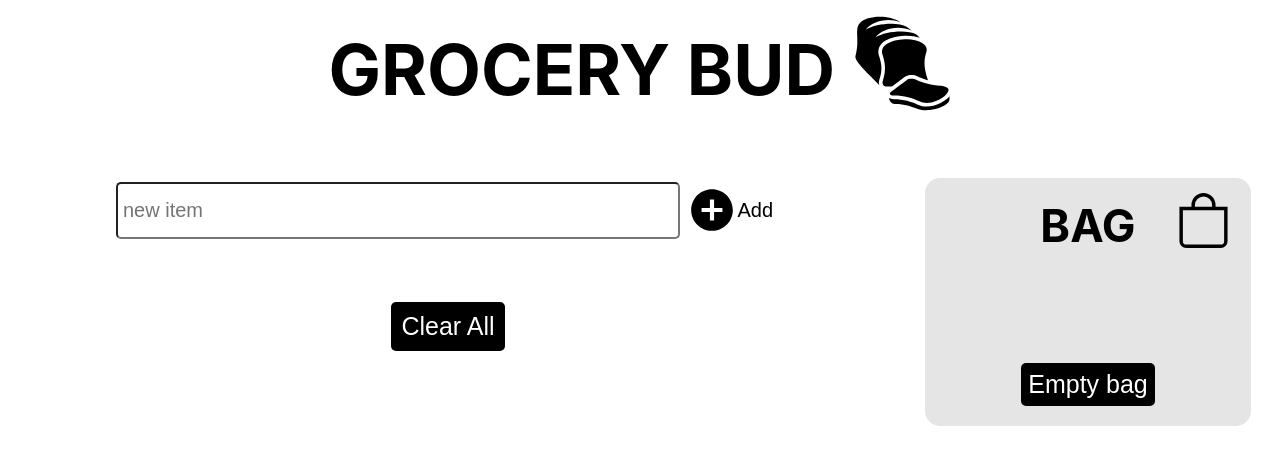
it: when list has only one item: › if edit button is clicked it show an input with the associated item value
Type "1 package of toilet paper" into the field with placeholder "new item" at x=398, y=210, box [116,182,680,238]
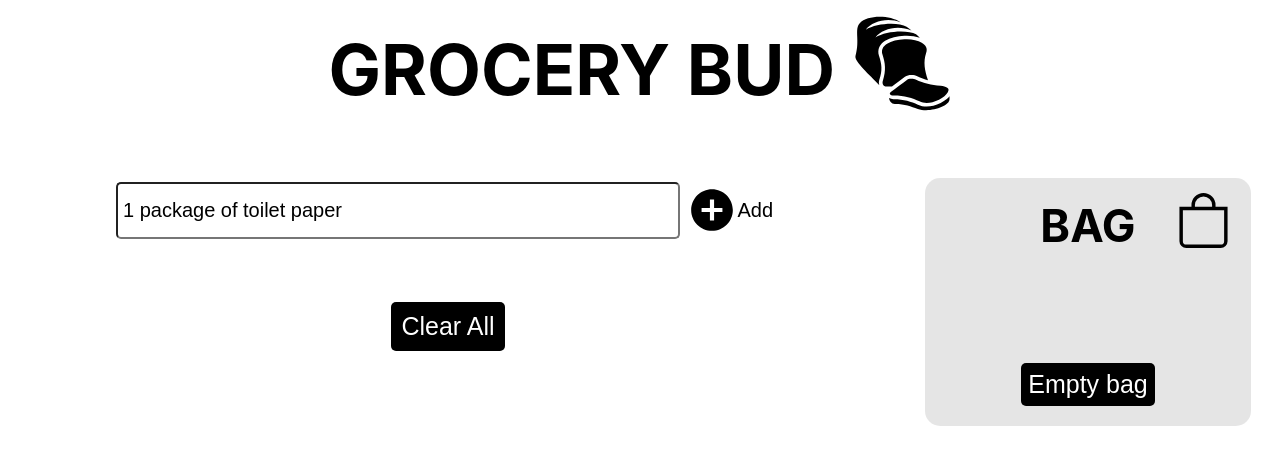
Click the button "Add" at x=730, y=210, box [680,178,780,242]
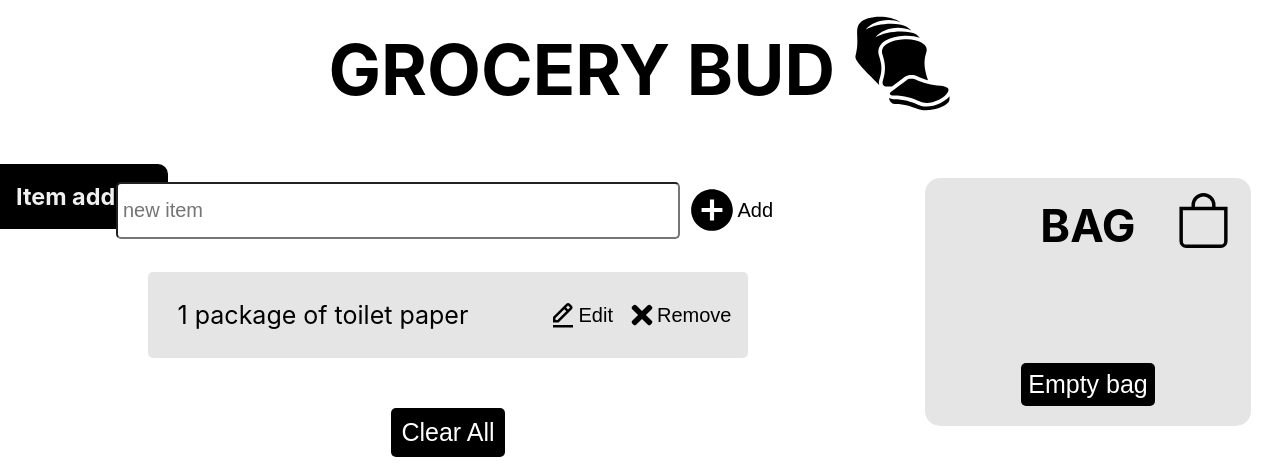
Check: the text "1 package of toilet paper" is shown, box [178,300,468,330]
Check: the field with placeholder "new item" is empty, box [116,182,680,238]
Click the button "Edit" at x=581, y=315, box [542,293,620,337]
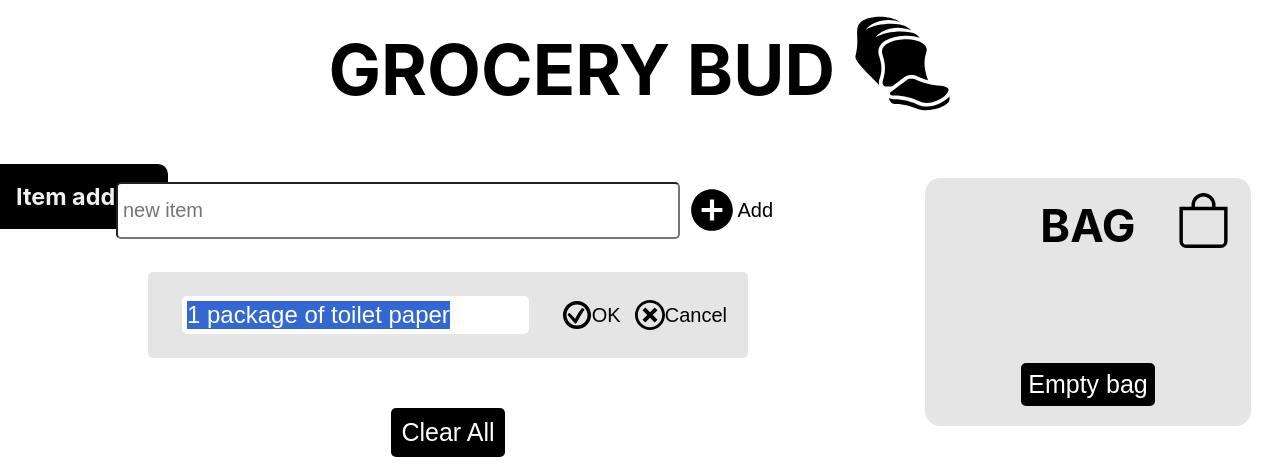
Check: the number of fields is 2, box [116,182,680,238]; [182,296,529,334]
Check: the 2nd field holds "1 package of toilet paper", box [182,296,529,334]
